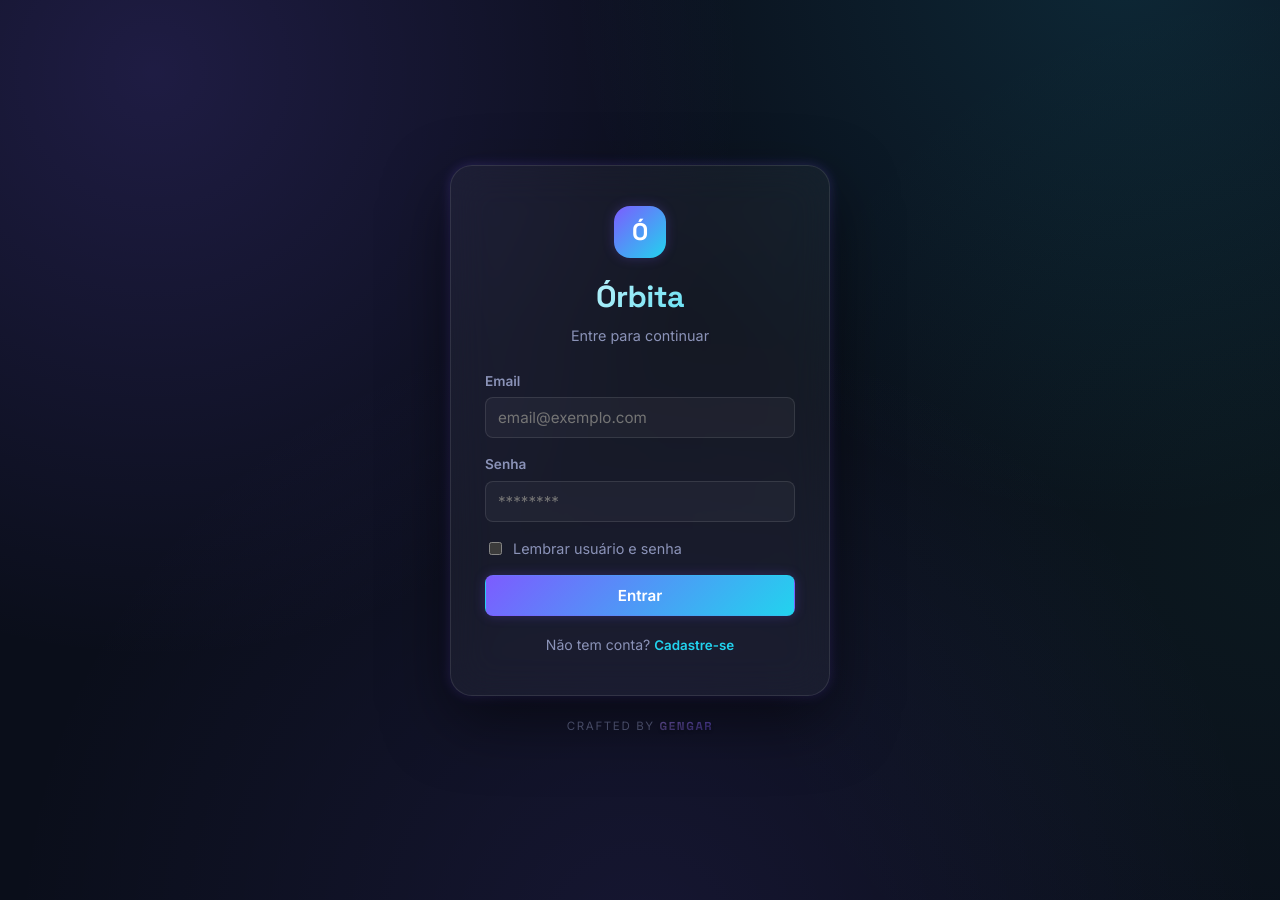
it: Login › alterna para o modo de cadastro e mostra o campo Nome
What coordinates should you click on to do the following:
click the button "Cadastre-se"
I would click on:
 (694, 645)
Its box is [654,637,734,653].
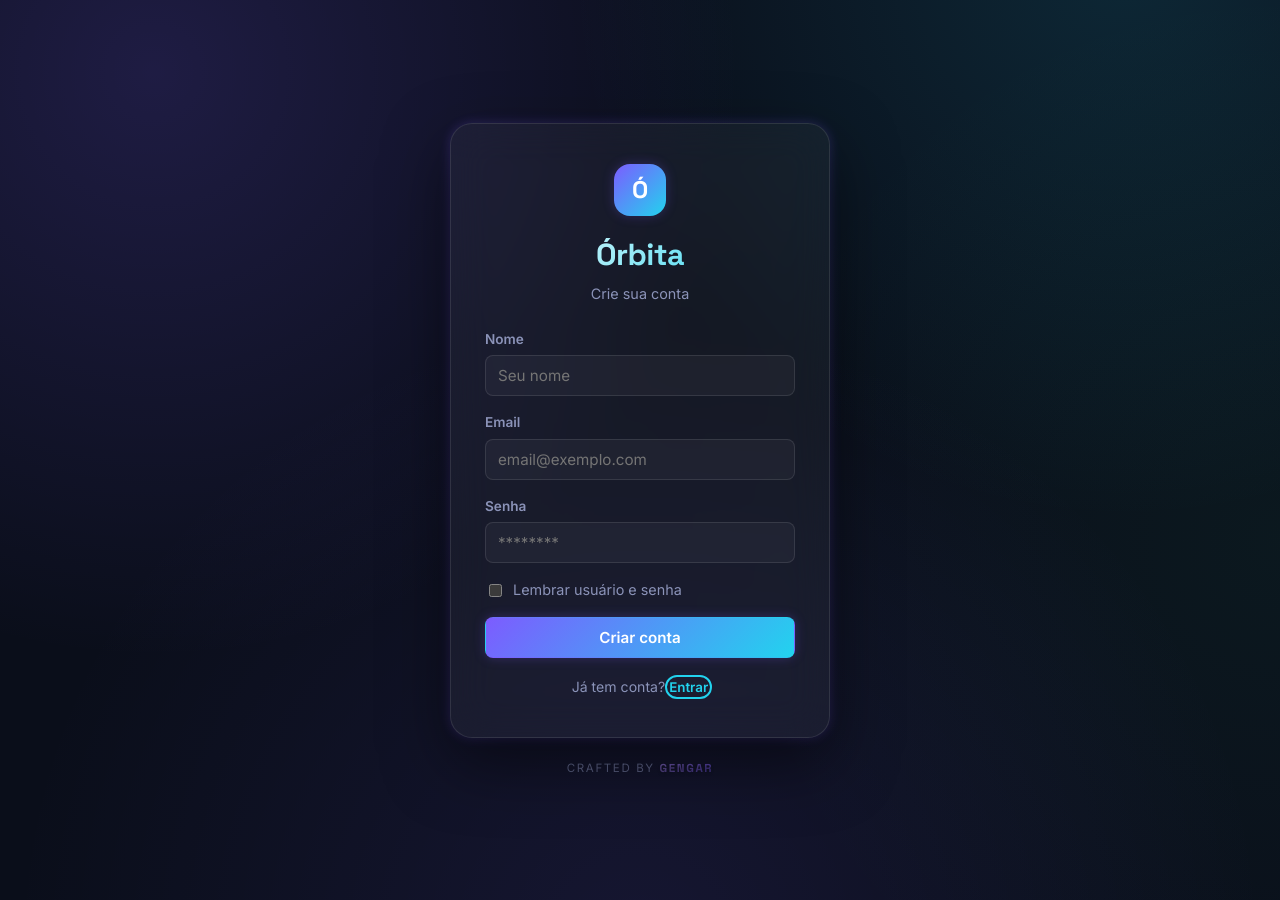
Expected: the text "Crie sua conta" is shown, [591,285,689,302]
Expected: the field labelled "Nome" is shown, [485,355,795,396]
Expected: the button "Criar conta" is shown, [485,617,795,658]
